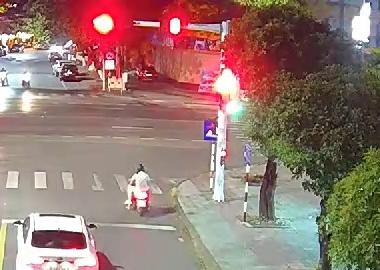red_light: (89, 10, 120, 37), (159, 12, 183, 40)
stop_line: (3, 219, 175, 230)
